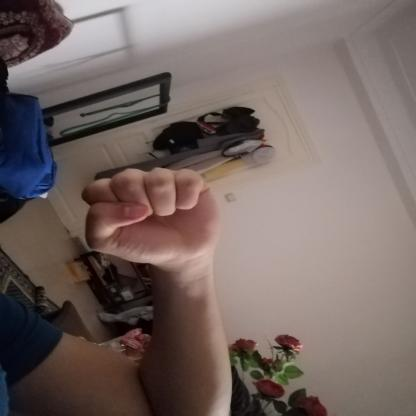SAD: (63, 156, 250, 281)
